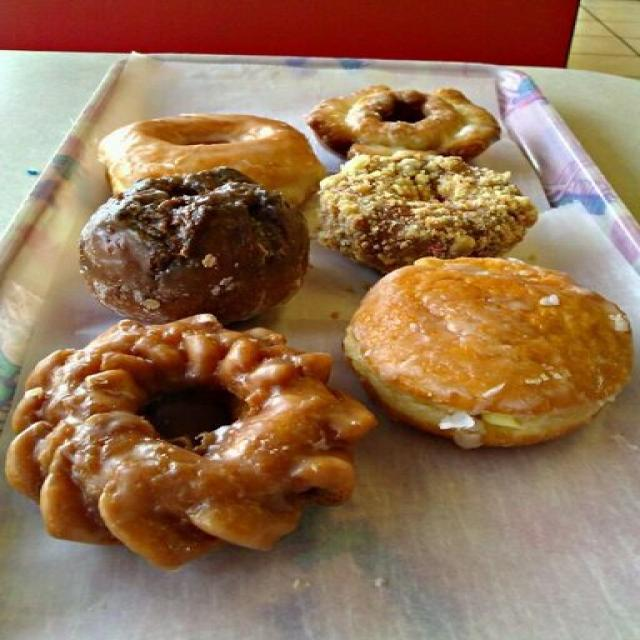Donuts: (3, 83, 639, 574)
